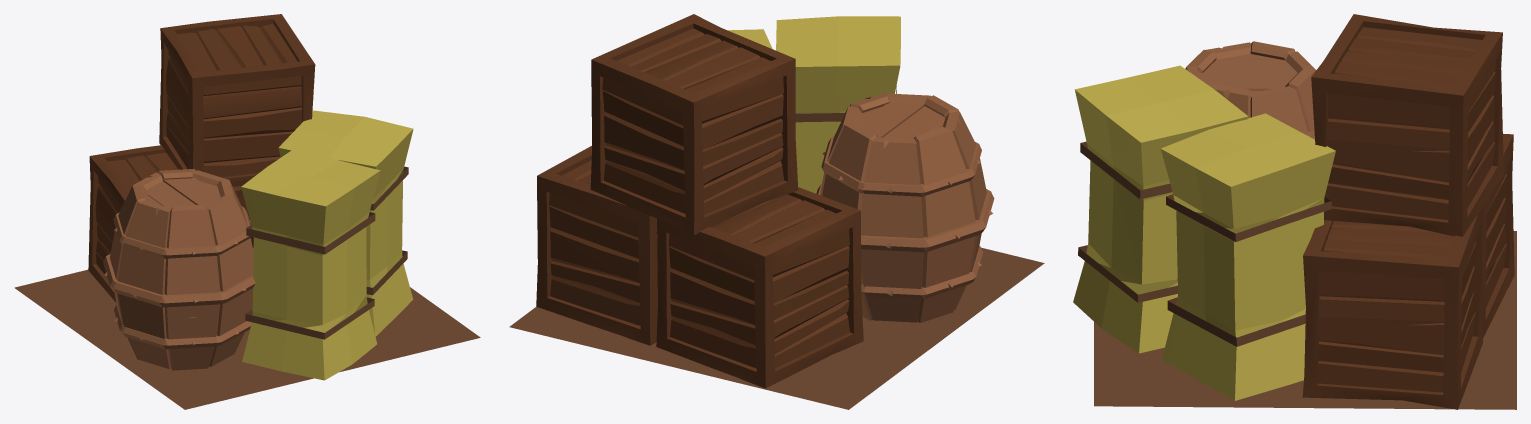
Rendered from stockpile.glb.
3 renders of one model, left to right at view 1: azimuth 30°, elevation 25°; view 2: azimuth 150°, elevation 25°; view 3: azimuth 270°, elevation 25°, orthographic. The views are drawn at different scales.
Parts seen in each view (by area): view 1: Cube; view 2: Cube; view 3: Cube.
Boxes of the visible parts, box(x1,y1,x2,y2) form: Cube: box(14, 14, 480, 409); Cube: box(509, 14, 1044, 409); Cube: box(1073, 14, 1516, 409).
Bounding box in the file's own units: 0.6915 × 0.4991 × 0.7009.
